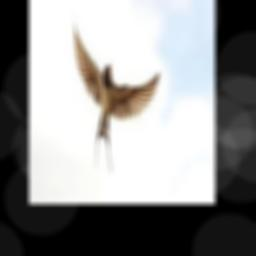Swallow: (73, 23, 159, 174)
